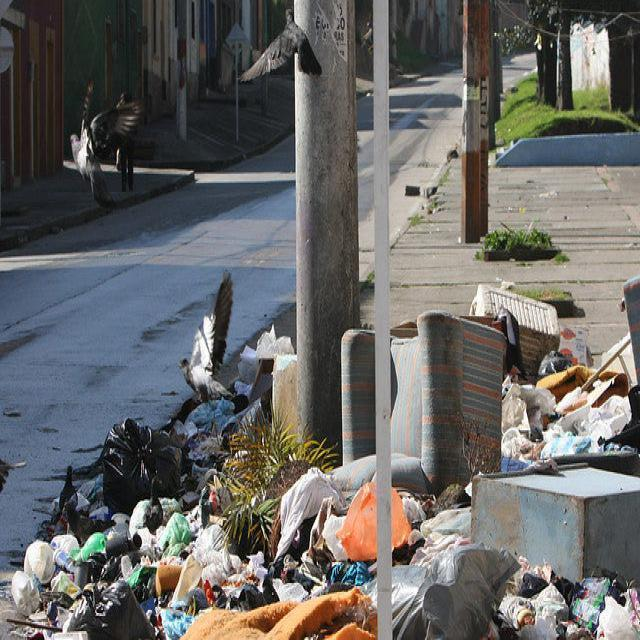Trashbag: (92, 414, 196, 511), (87, 575, 155, 639)
